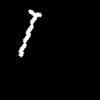half_double_crochet: (19, 10, 41, 56)
